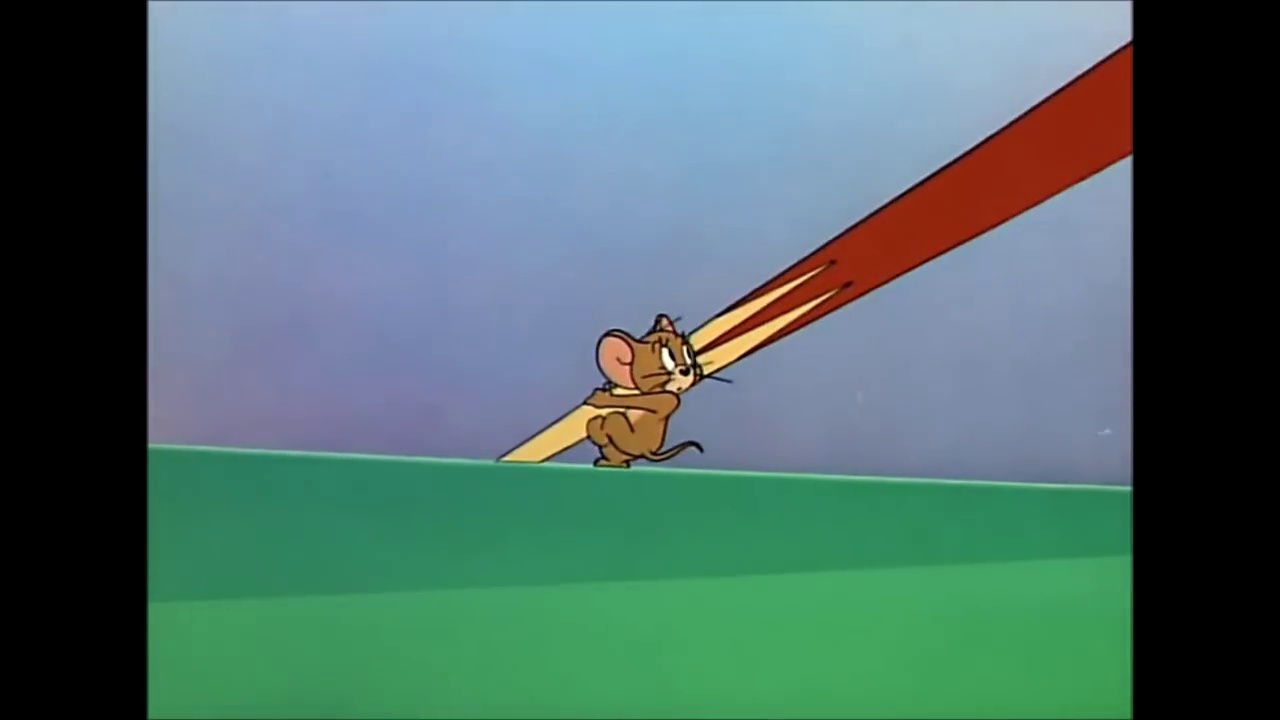surprised: (651, 335, 702, 394)
